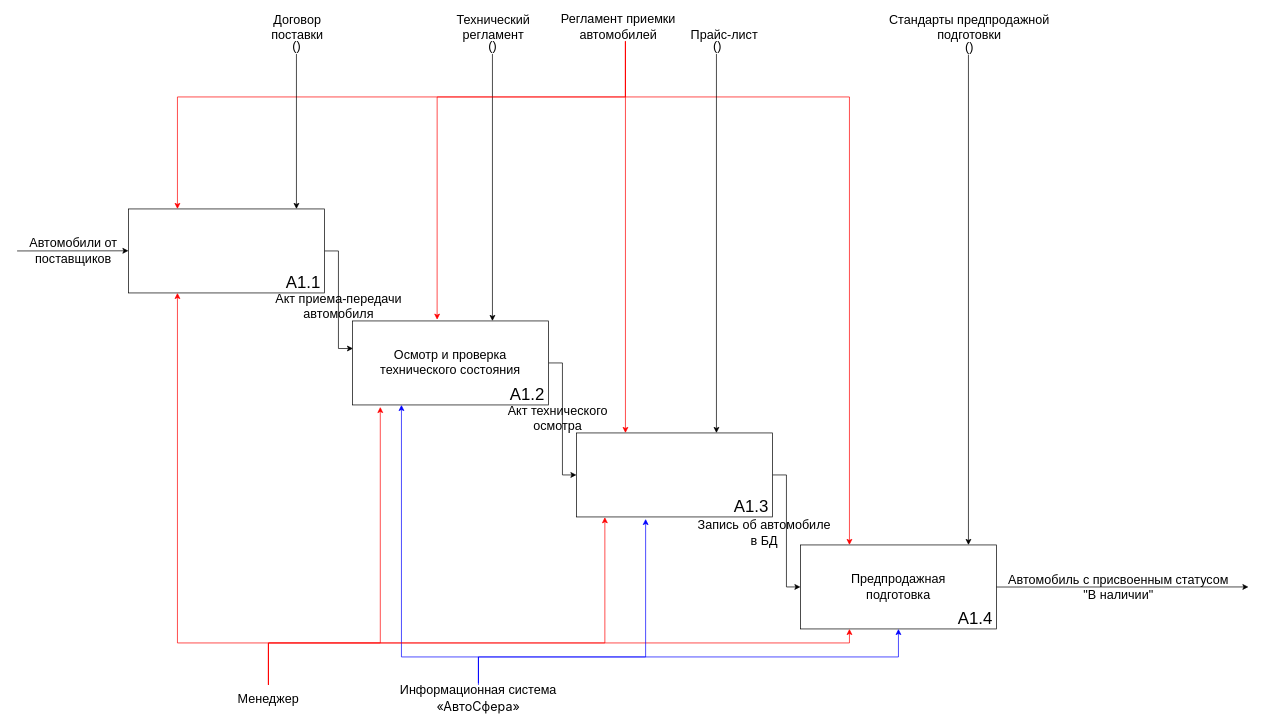
Some shapes in this 1267 by 727 pixel diagram are drawn without their labels. The box of each missing label's shape, as (x1, y1, x2, y2) in pixels:
Внесение данных об автомобиле в базу: (576, 432, 772, 517)
Прием автомобиля от поставщика: (128, 208, 324, 293)
